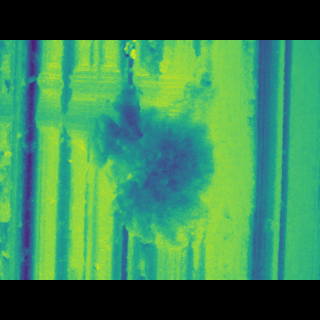Loch: (27, 81, 235, 231)
